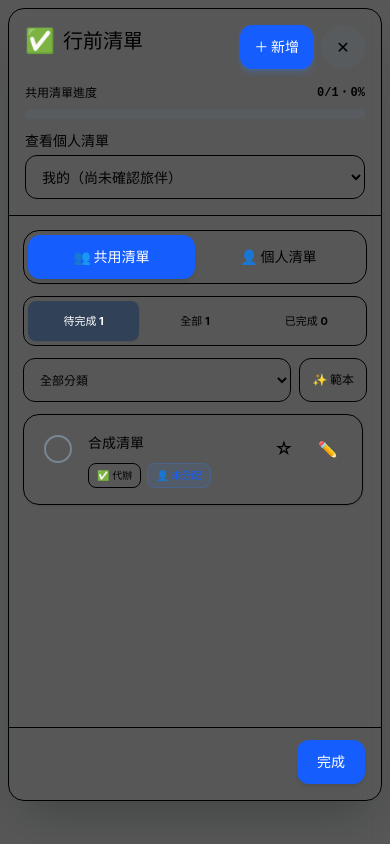
Test: checklist attribution and viewing are separate › distinguishes category mismatch without changing items
Select "🛂 證件" in the dropdown named "分類篩選" at (157, 380), box [23,358,291,402]
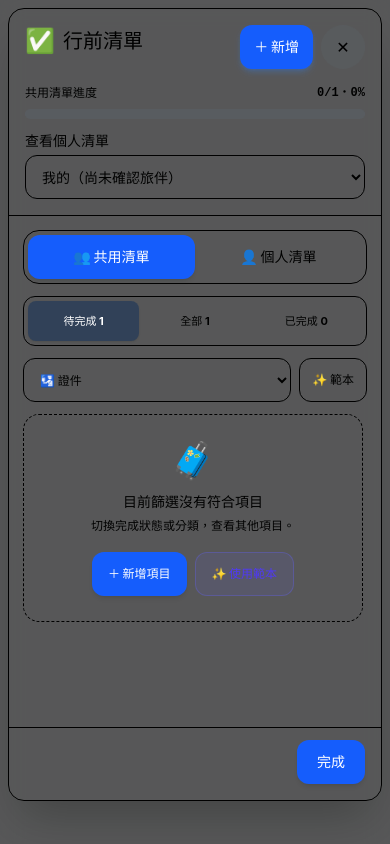
Now the text "目前篩選沒有符合項目" is shown, box [123,492,263,512]
